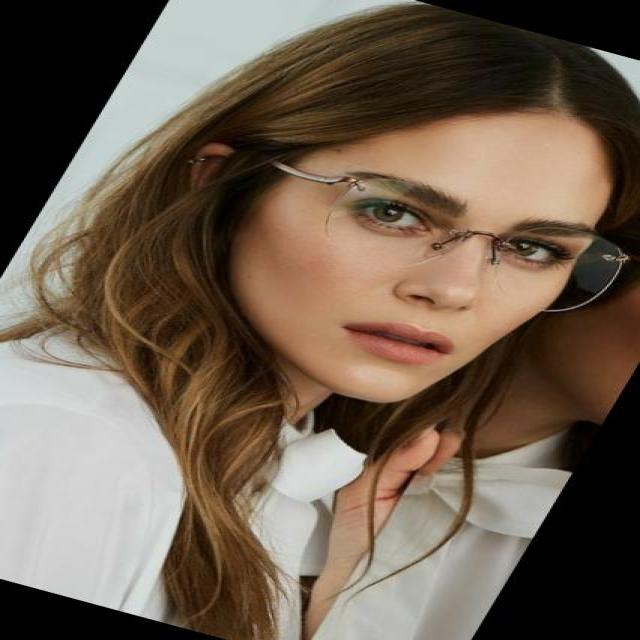glasses: (275, 158, 640, 323)
